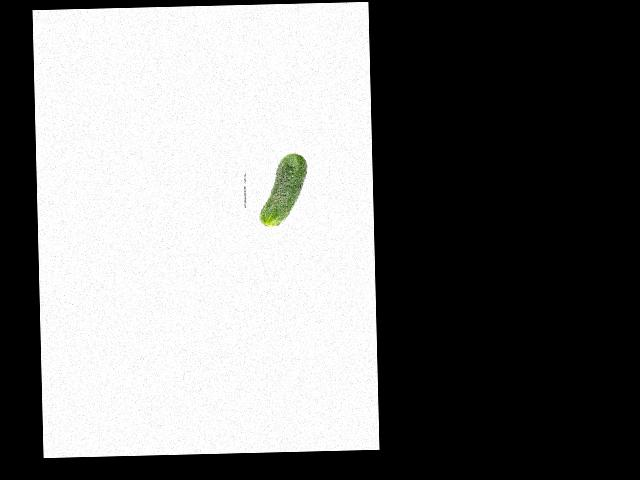cucumber: (257, 152, 308, 226)
